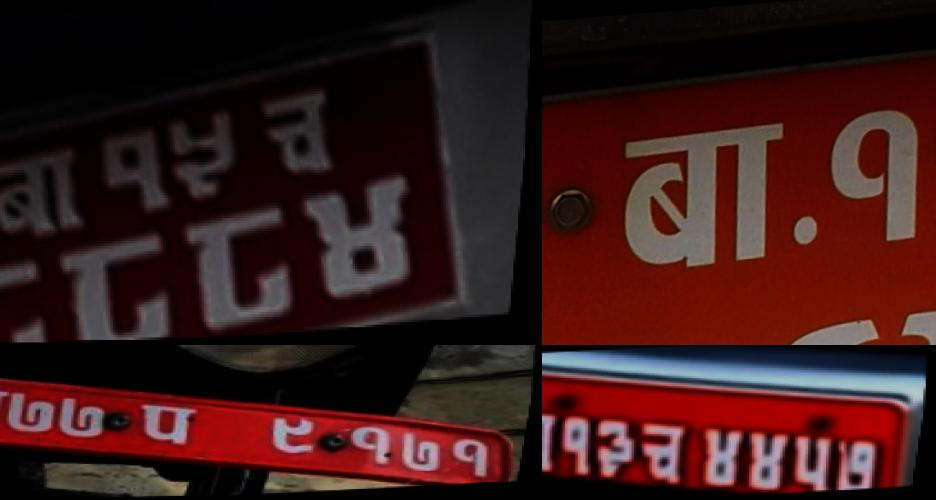1: (814, 96, 936, 265), (90, 116, 185, 227), (552, 407, 604, 479), (450, 436, 507, 483), (345, 426, 402, 470)
3: (592, 413, 648, 480)
4: (294, 174, 439, 314), (692, 424, 757, 494), (741, 426, 804, 496)
5: (160, 102, 261, 209), (788, 432, 846, 494)
7: (831, 436, 892, 491), (53, 392, 119, 440), (396, 432, 453, 480), (1, 388, 62, 432)
8: (178, 202, 313, 340), (55, 228, 188, 343), (0, 251, 69, 345)
9: (263, 417, 331, 459)
ba: (604, 111, 803, 287), (0, 140, 102, 244), (542, 404, 568, 475), (0, 380, 13, 433)
cha: (250, 80, 364, 191), (634, 416, 702, 486)
pa: (122, 397, 210, 451)
